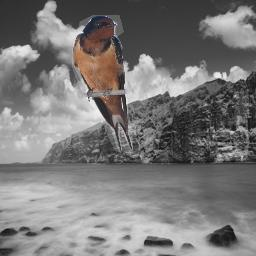Swallow: (72, 15, 133, 153)
